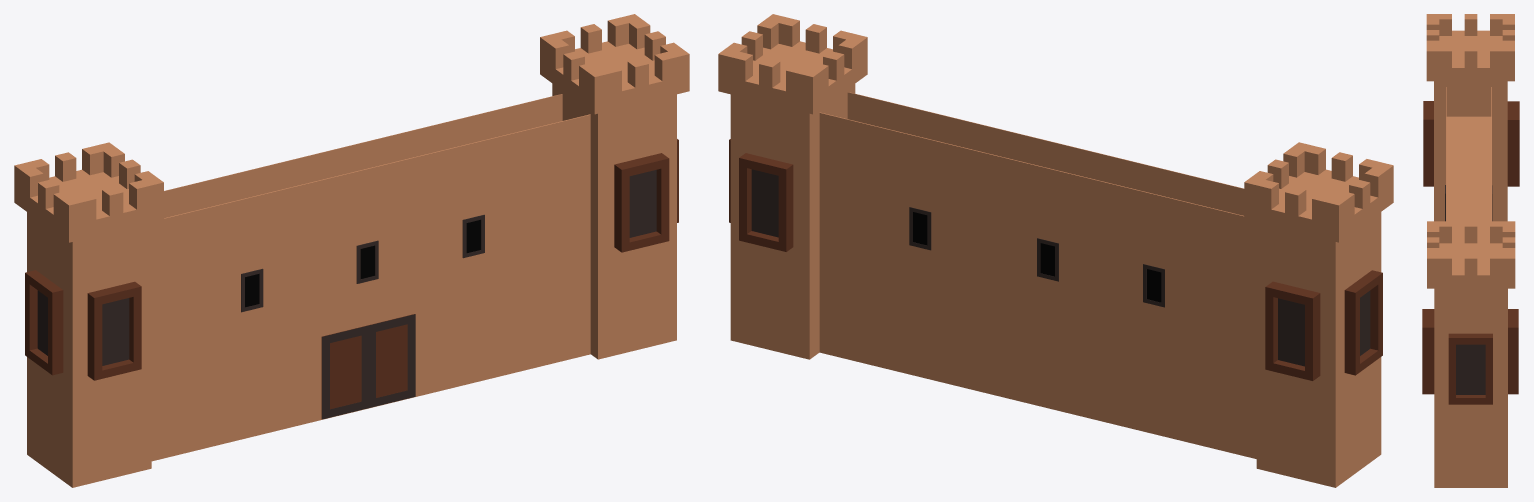
Rendered from level2.fbx.
The picture shows the model from 3 angles, left to right: view 1: azimuth 30°, elevation 25°; view 2: azimuth 150°, elevation 25°; view 3: azimuth 270°, elevation 25°; orthographic projection. The views are drawn at different scales.
Visible parts, largest first — view 1: Cube.001; view 2: Cube.001; view 3: Cube.001.
Boxes of the visible parts, <box> form: Cube.001: <box>14,14,689,487</box>; Cube.001: <box>718,14,1393,487</box>; Cube.001: <box>1422,14,1519,487</box>.
Bounding box in the file's own units: 1585 × 696 × 265.
